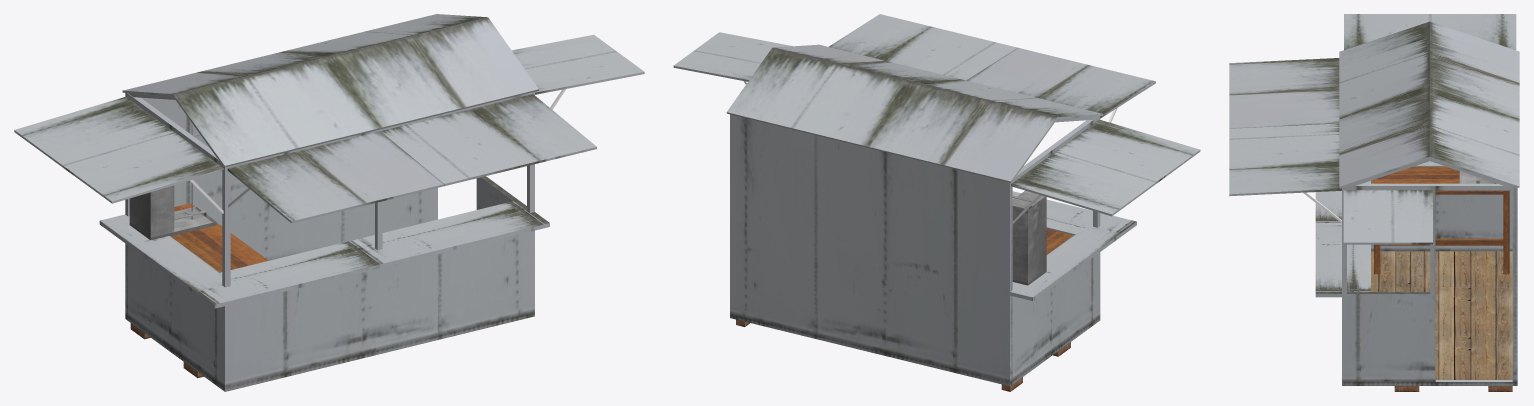
Rendered from puesto_tacos.glb.
3 views of the same model, side by side, from view 1: azimuth 30°, elevation 25°; view 2: azimuth 150°, elevation 25°; view 3: azimuth 270°, elevation 25° (orthographic). The views are drawn at different scales.
Visible parts, largest first — view 1: Object_20; view 2: Object_20; view 3: Object_20.
Boxes of the visible parts, bbox=[...] form: Object_20: bbox=[14, 14, 644, 391]; Object_20: bbox=[673, 14, 1200, 391]; Object_20: bbox=[1229, 14, 1519, 391].
Size of the model in its own units: 6.54 by 3.17 by 3.51.
Materials: 6 (5 with a texture image).
